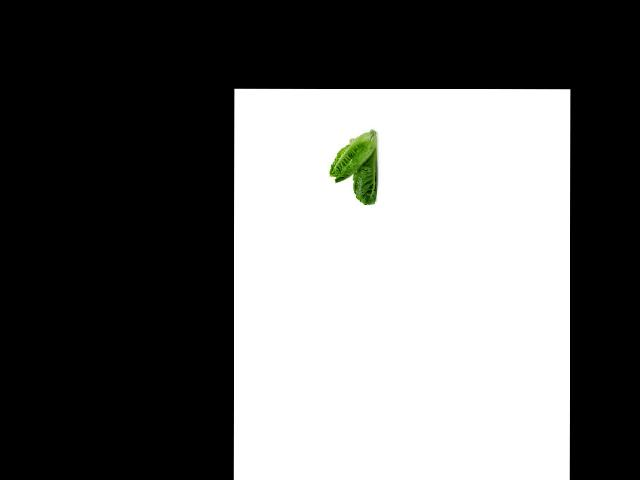lettuce: (351, 145, 381, 210)
